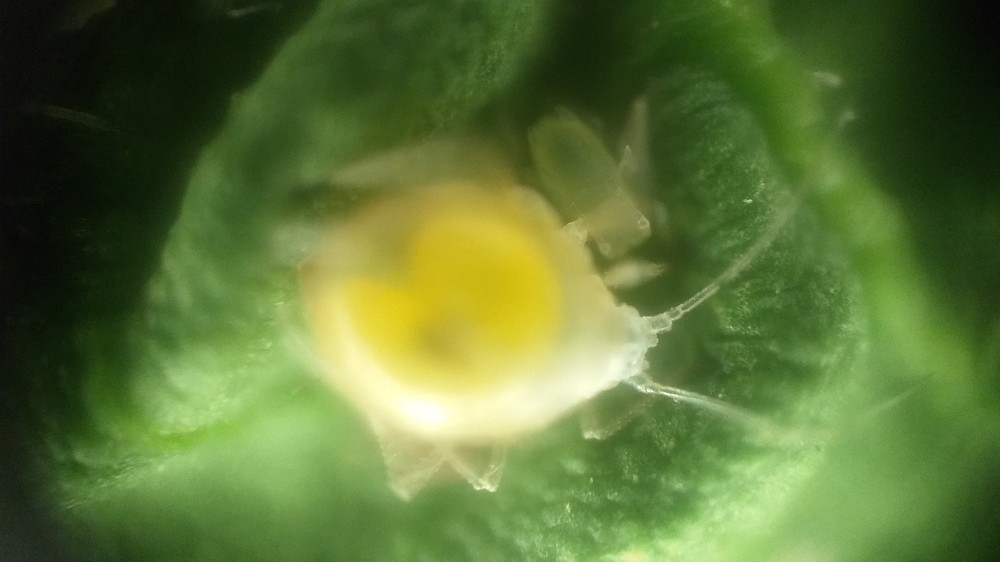Pulgon: (264, 88, 921, 517)
